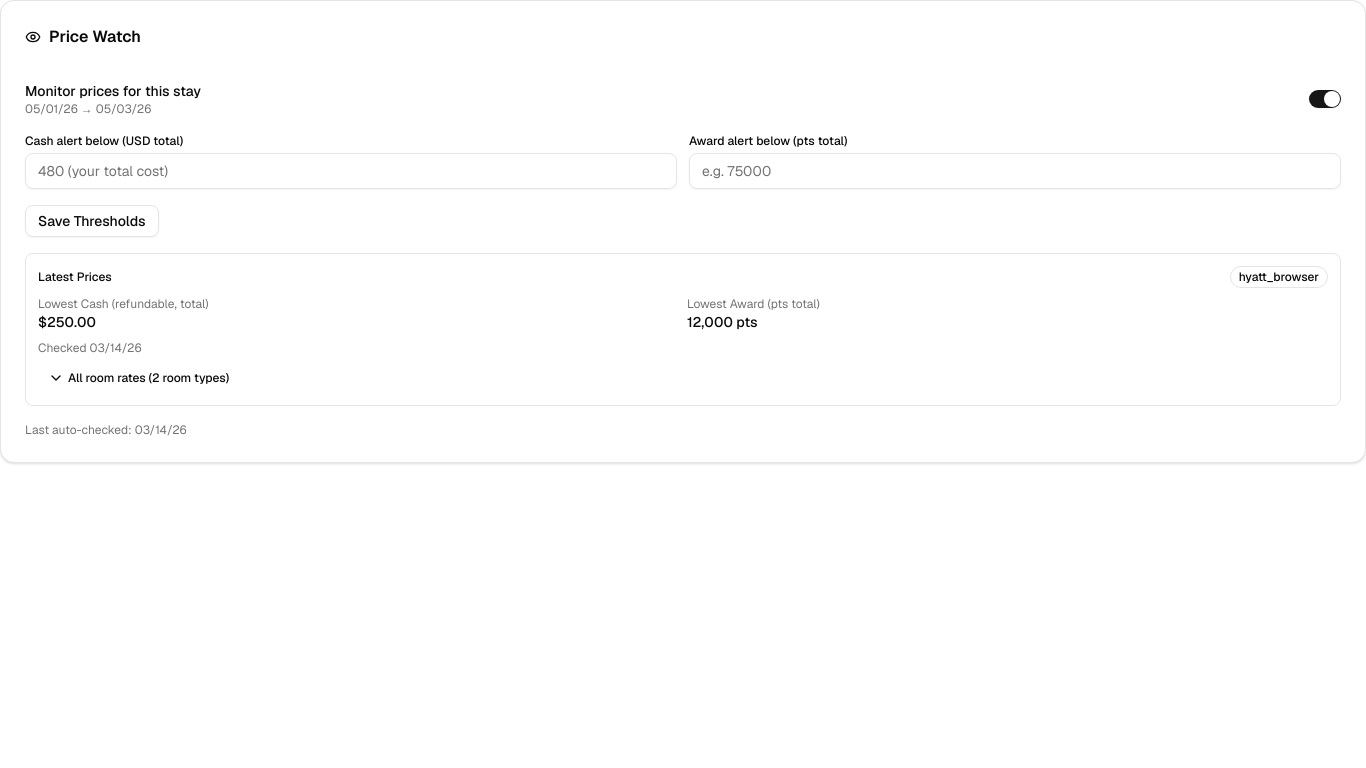
BookingPriceWatch › expands room rates table when toggle clicked and collapses on second click
Click the button with test id "toggle-room-rates". click: (110, 378)
box: [38,364,1328,392]
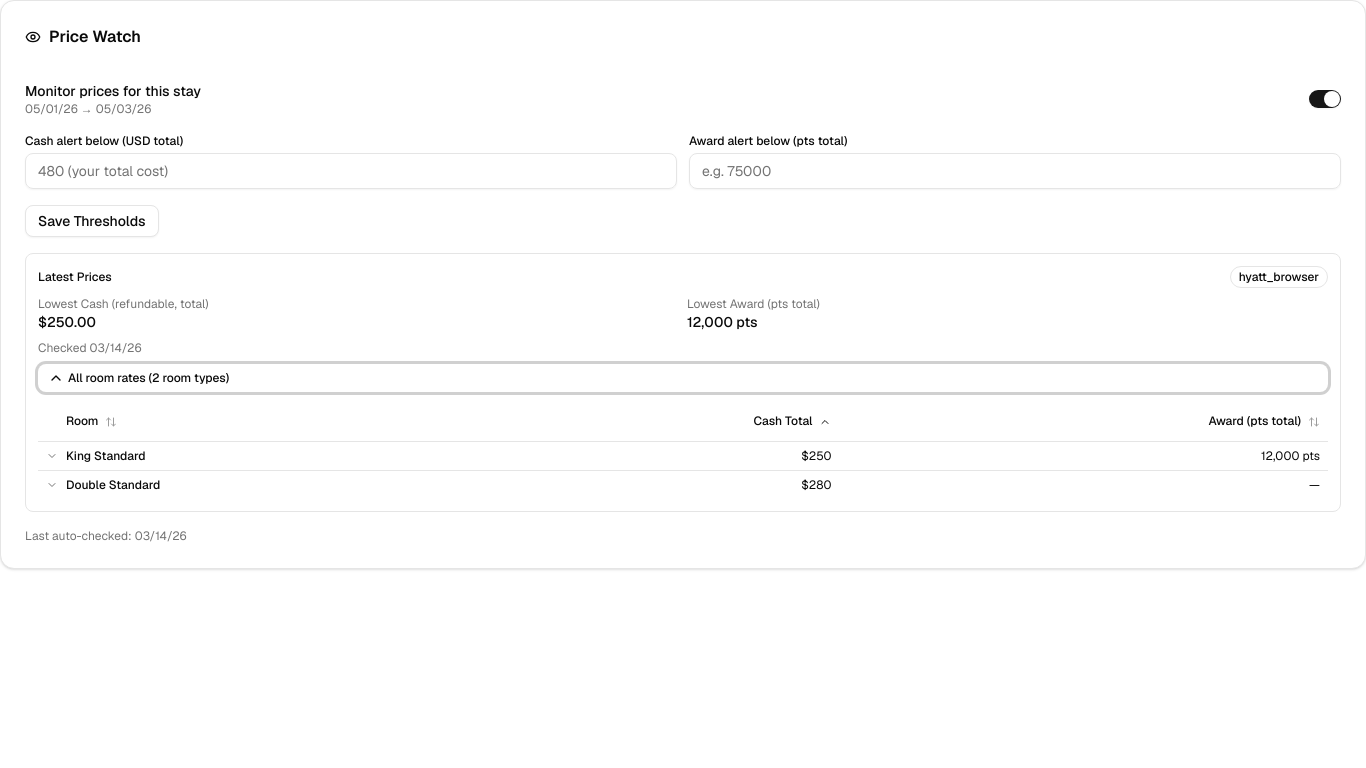
expect the number of rows with test id "room-group-row" is 2: met, box [38,441,1328,470]; [38,470,1328,498]
expect the text "King Standard" is shown: met, box [58,441,480,470]
expect the text "Double Standard" is shown: met, box [58,470,480,498]
Click the button with test id "toggle-room-rates". click: (110, 378)
box: [38,364,1328,392]
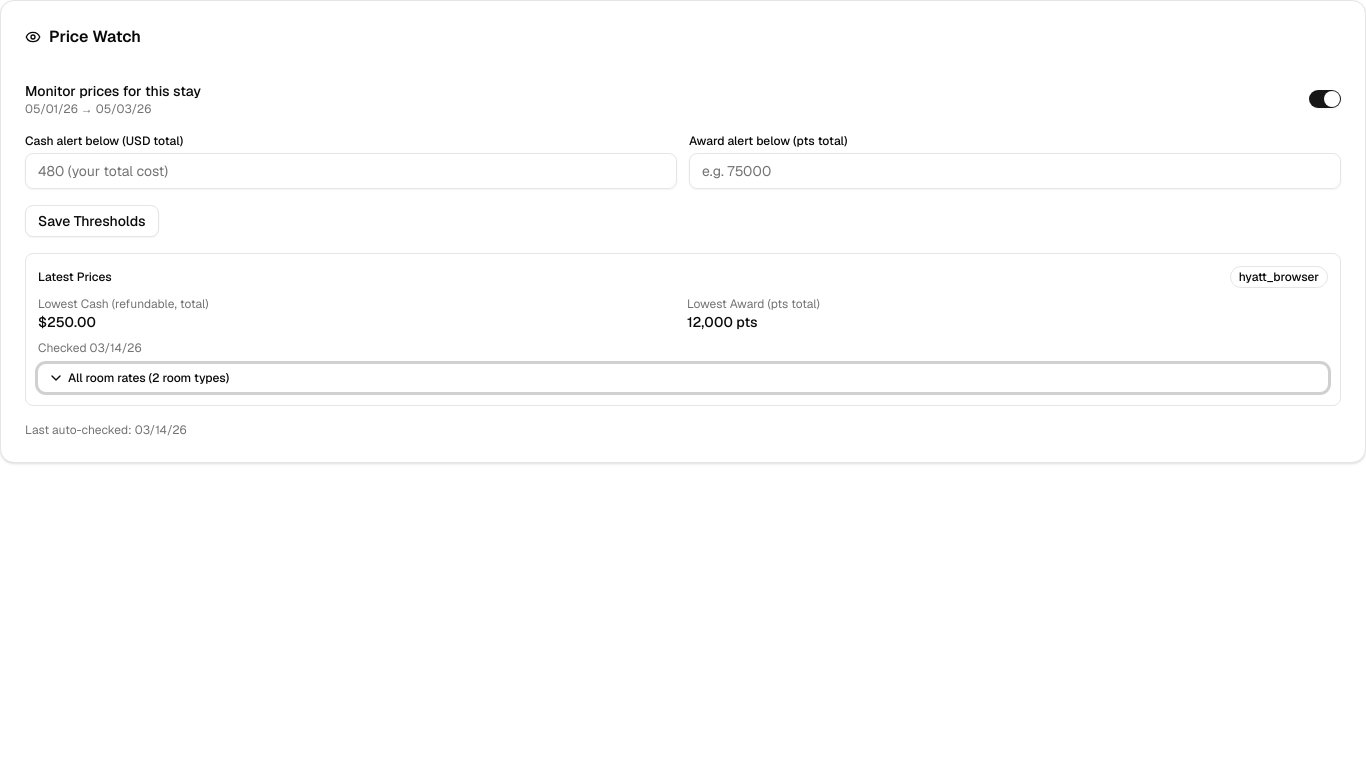
expect no rows with test id "room-group-row" are shown: met
